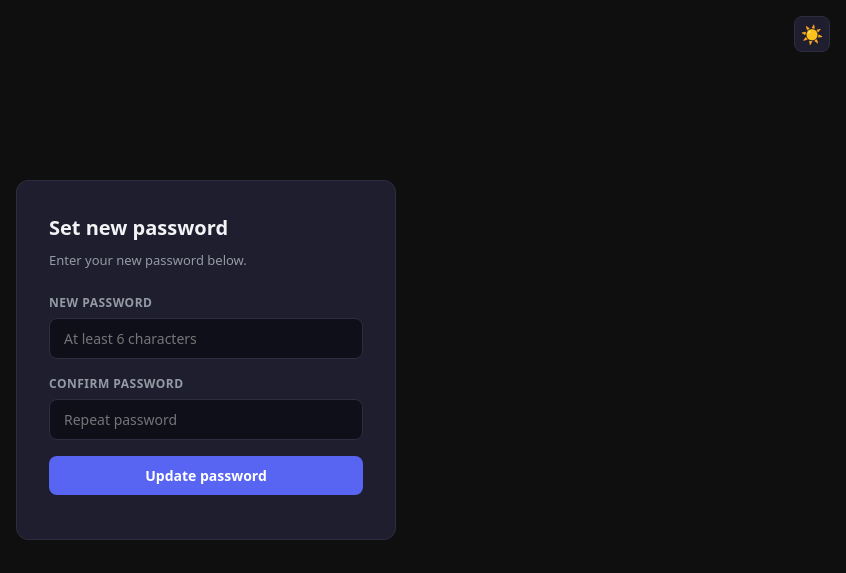
Test: shows error when submitted with empty password
Click the button with test id "rp-submit". click: click(206, 476)
box: [49, 456, 363, 495]
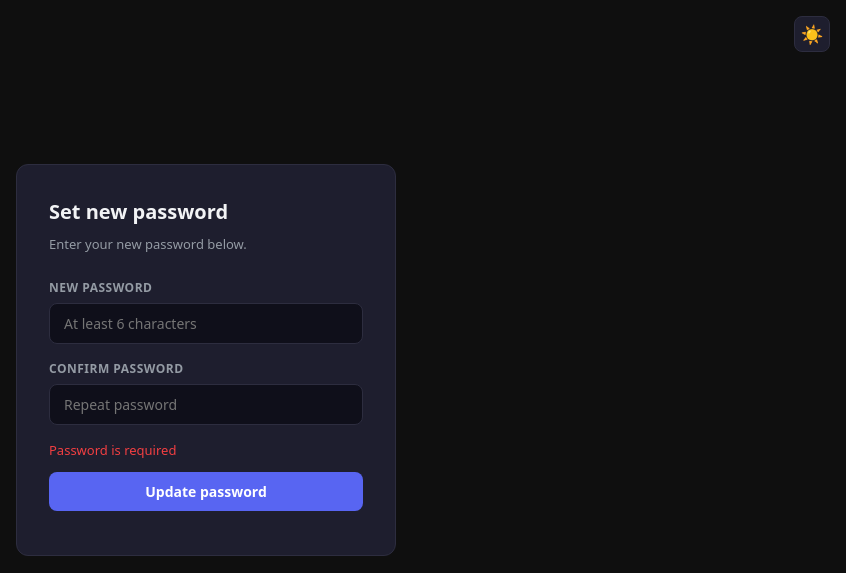
Expected: the text "Password is required" is shown, [49, 440, 176, 458]
